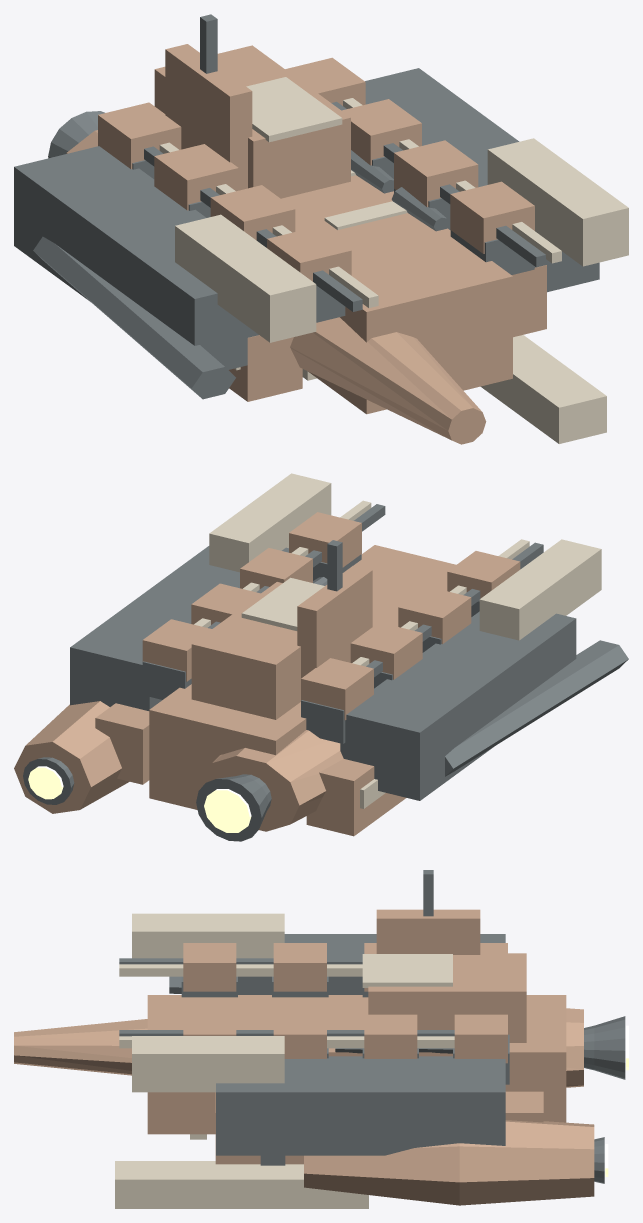
The picture shows the model from 3 angles, top to bottom: view 1: azimuth 30°, elevation 25°; view 2: azimuth 150°, elevation 25°; view 3: azimuth 270°, elevation 25°; orthographic projection. The views are drawn at different scales.
Bounding box in the file's own units: 14.99 × 10.04 × 21.75.
